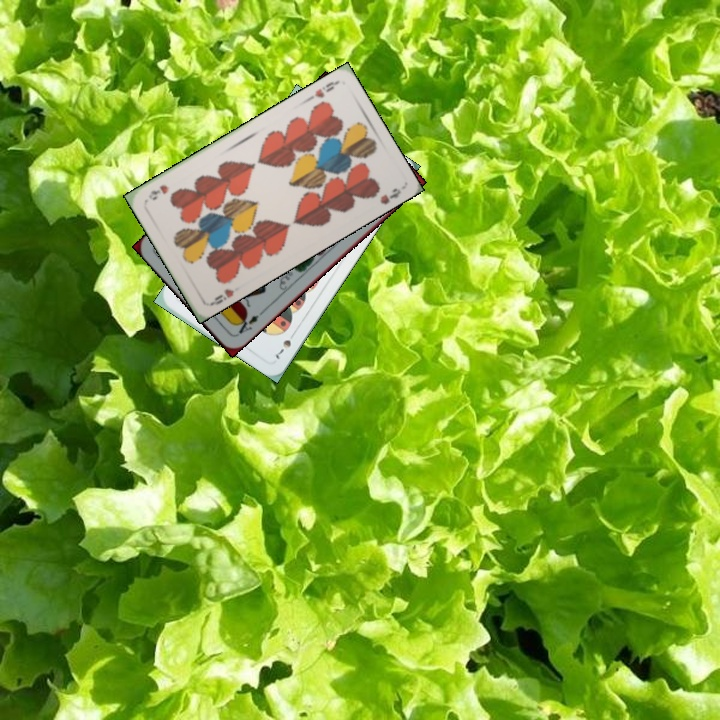EA: (232, 307, 266, 337)
H9: (206, 284, 236, 308), (311, 77, 341, 100)
S7: (270, 327, 299, 363)
